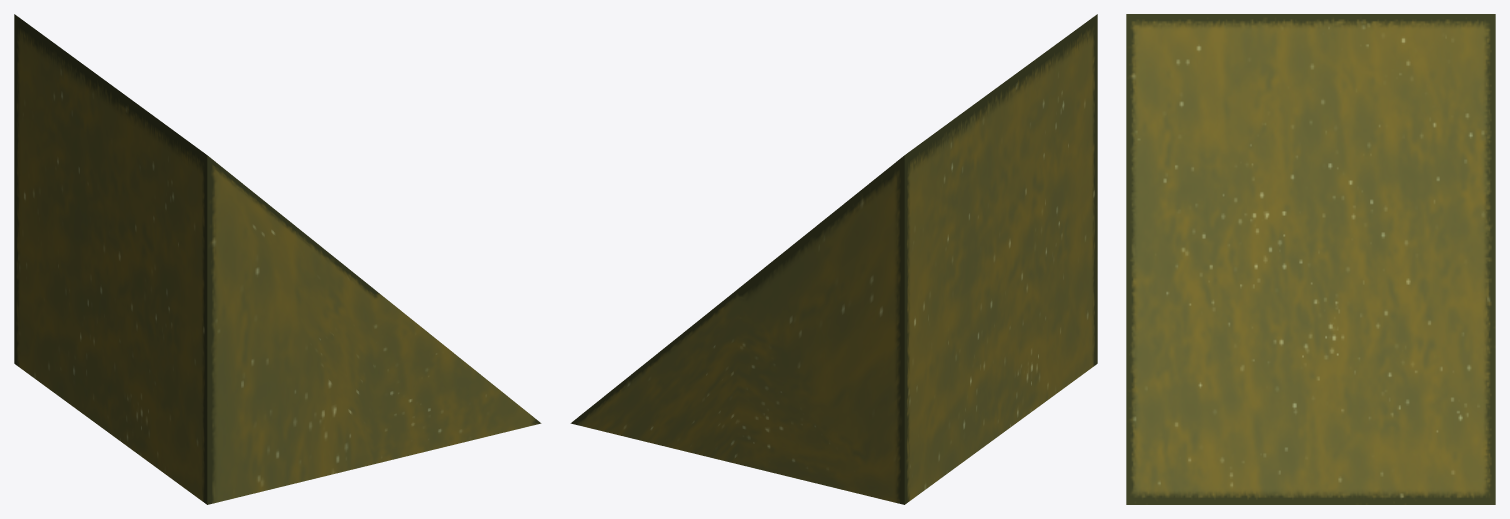
Rendered from 4_path.obj.
3 renders of one model, left to right at view 1: azimuth 30°, elevation 25°; view 2: azimuth 150°, elevation 25°; view 3: azimuth 270°, elevation 25°, orthographic. The views are drawn at different scales.
Parts seen in each view (by area): view 1: 4_path; view 2: 4_path; view 3: 4_path.
Part boxes in pixels (<box>): 4_path: <box>14,14,541,504</box>; 4_path: <box>570,14,1097,504</box>; 4_path: <box>1126,14,1495,504</box>.
Size of the model in its own units: 1 by 1 by 1.
Materials: 1 (1 with a texture image).
